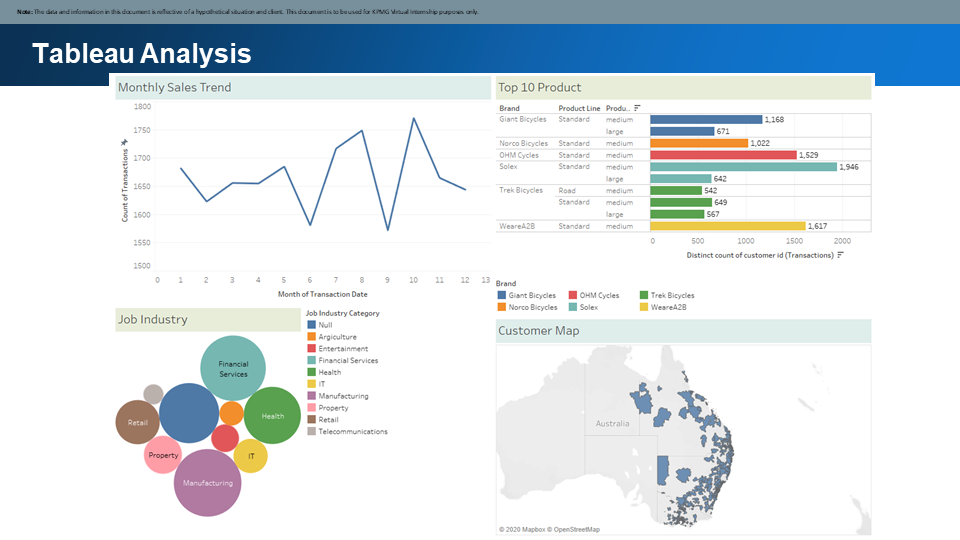

Layout of this report page (visuals, bound fields, positions):
{"tool":"tableau","page":{"name":"Dashboard 1","canvas":[1300,800],"ordinal":0},"visuals":[{"type":"worksheet","box":[0,0,1300,800]},{"type":"worksheet","param":"horz","box":[8,8,1284,784]},{"type":"worksheet","param":"vert","box":[8,8,1284,784]},{"type":"worksheet","box":[8,8,1284,32]},{"type":"worksheet","param":"horz","box":[8,40,1284,752]},{"type":"worksheet","box":[8,40,1284,752]},{"type":"worksheet","title":"Monthly Sales Trend","mark":"Automatic","rows":["Transactions_2D8CA8D32007461CA5615F010965D409"],"cols":["transaction_date"],"box":[8,40,642,376]},{"type":"worksheet","title":"Top 10 Product","mark":"Automatic","rows":["brand","product_line","product_size"],"cols":["customer_id (Transactions)"],"box":[650,40,642,328]},{"type":"worksheet","title":"Top 10 Product","mark":"Automatic","rows":["brand","product_line","product_size"],"cols":["customer_id (Transactions)"],"param":"[federated.0ntvb6z0pb4pxq14v3tbx1mx9wmo].[none:brand:nk]","box":[650,368,642,66]},{"type":"worksheet","title":"Job Industry","mark":"Circle","box":[8,416,321,376]},{"type":"worksheet","title":"Job Industry","mark":"Circle","param":"[federated.0m4g2620htzajg19hwyb81bpc3p5].[none:job_industry_category:nk]","box":[329,416,321,376]},{"type":"worksheet","title":"Customer Map","mark":"Multipolygon","box":[650,434,642,358]}]}

Visuals, with their boxes on the page's 1300x800 design canvas (x1, y1, x2, y2). These are canvas units, not pixel positions in the 960x540 screenshot, which may show the page scaled, cropped or inside an application window:
worksheet: (left=0, top=0, right=1300, bottom=800)
worksheet: (left=8, top=8, right=1292, bottom=792)
worksheet: (left=8, top=8, right=1292, bottom=792)
worksheet: (left=8, top=8, right=1292, bottom=40)
worksheet: (left=8, top=40, right=1292, bottom=792)
worksheet: (left=8, top=40, right=1292, bottom=792)
"Monthly Sales Trend" worksheet: (left=8, top=40, right=650, bottom=416)
"Top 10 Product" worksheet: (left=650, top=40, right=1292, bottom=368)
"Top 10 Product" worksheet: (left=650, top=368, right=1292, bottom=434)
"Job Industry" worksheet (Circle marks): (left=8, top=416, right=329, bottom=792)
"Job Industry" worksheet (Circle marks): (left=329, top=416, right=650, bottom=792)
"Customer Map" worksheet (Multipolygon marks): (left=650, top=434, right=1292, bottom=792)
